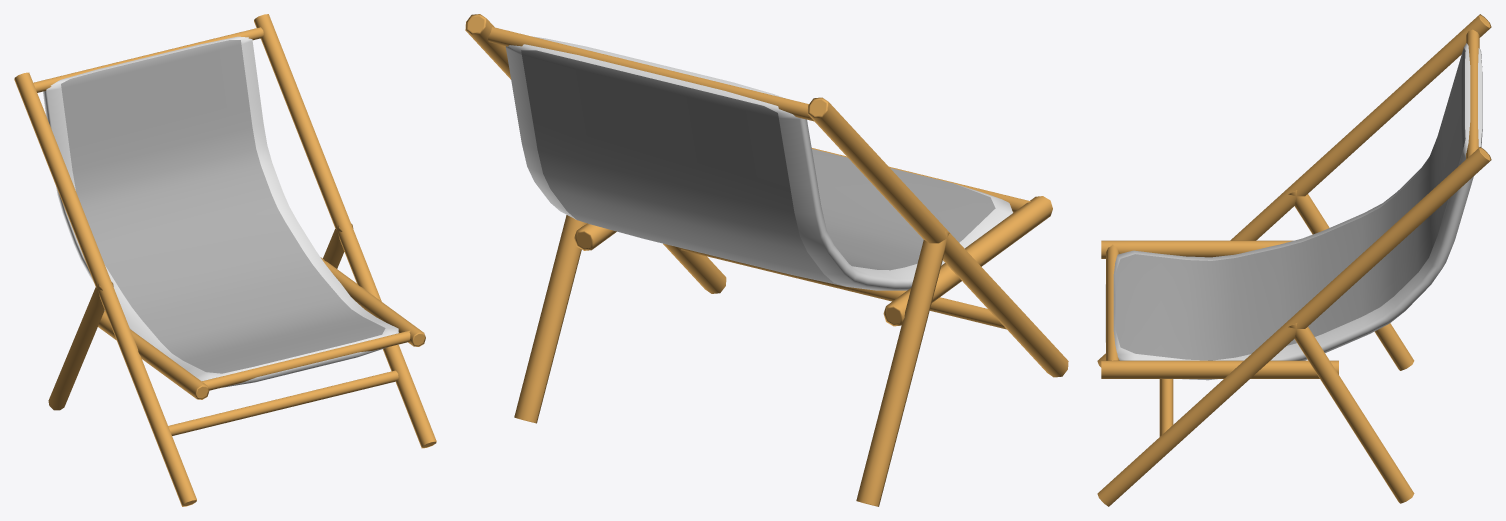
The model's file is Chair.fbx.
3 views of the same model, side by side, from view 1: azimuth 30°, elevation 25°; view 2: azimuth 150°, elevation 25°; view 3: azimuth 270°, elevation 25° (orthographic). The views are drawn at different scales.
Parts seen in each view (by area): view 1: BeachChair; view 2: BeachChair; view 3: BeachChair.
Boxes of the visible parts, box(x1,y1,x2,y2) form: BeachChair: box(14, 14, 436, 506); BeachChair: box(465, 14, 1068, 506); BeachChair: box(1097, 14, 1491, 506).
Size of the model in its own units: 1.64 by 1.94 by 1.94.
